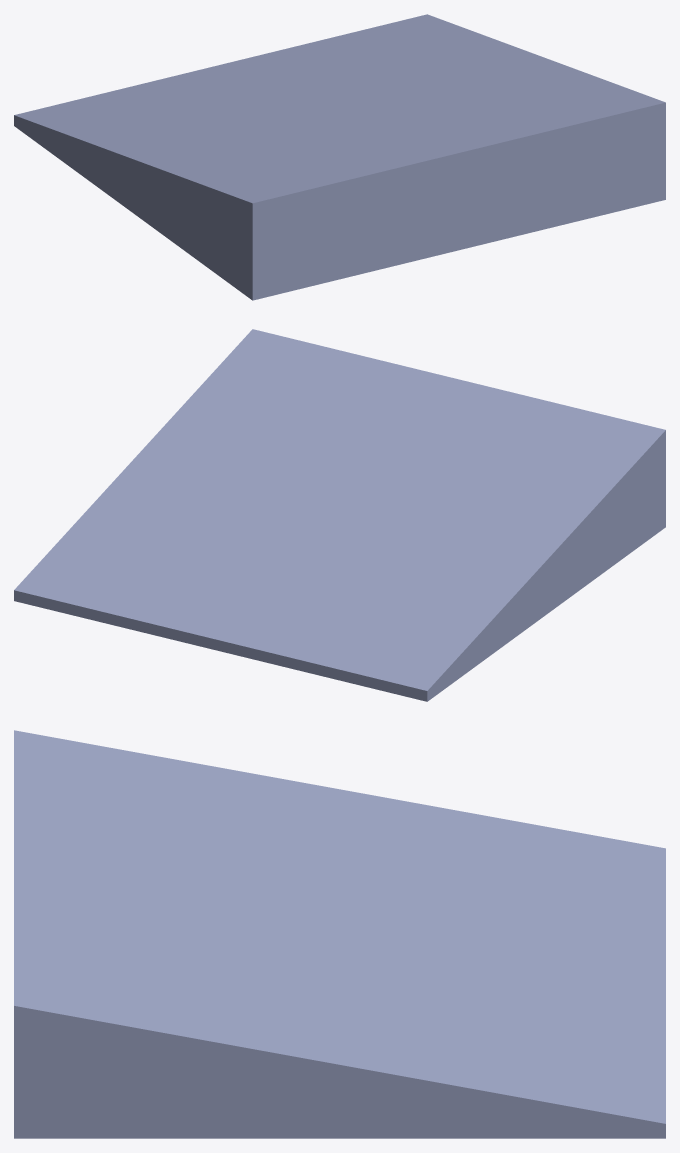
File: road-slope.glb
3 views of the same model, one above another, from view 1: azimuth 30°, elevation 25°; view 2: azimuth 150°, elevation 25°; view 3: azimuth 270°, elevation 25° (orthographic). The views are drawn at different scales.
Parts seen in each view (by area): view 1: road-slope; view 2: road-slope; view 3: road-slope.
Part boxes in pixels (box(x1,y1,x2,y2)): road-slope: box(14, 14, 665, 300); road-slope: box(14, 329, 665, 701); road-slope: box(14, 730, 665, 1138).
Size of the model in its own units: 1 by 0.225 by 1.
1 material, 1 textured.
